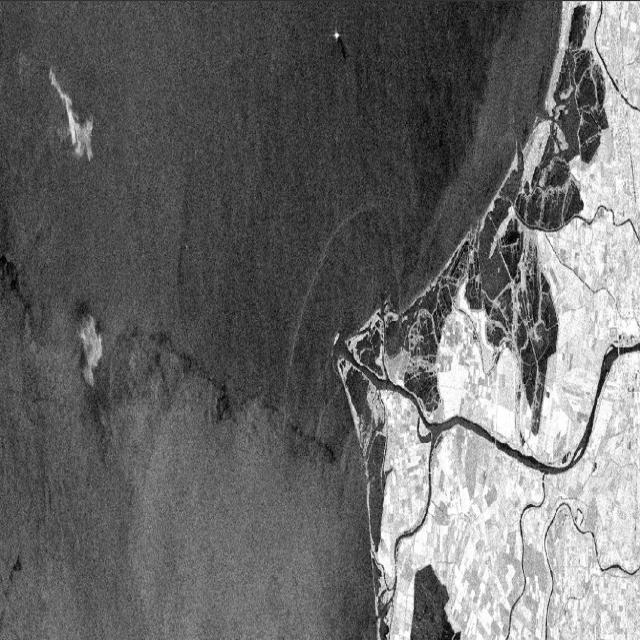look-alike: (2, 228, 32, 328), (208, 369, 238, 428), (9, 550, 24, 586)
oil-spill: (337, 39, 350, 68)
ship: (332, 28, 340, 42)
